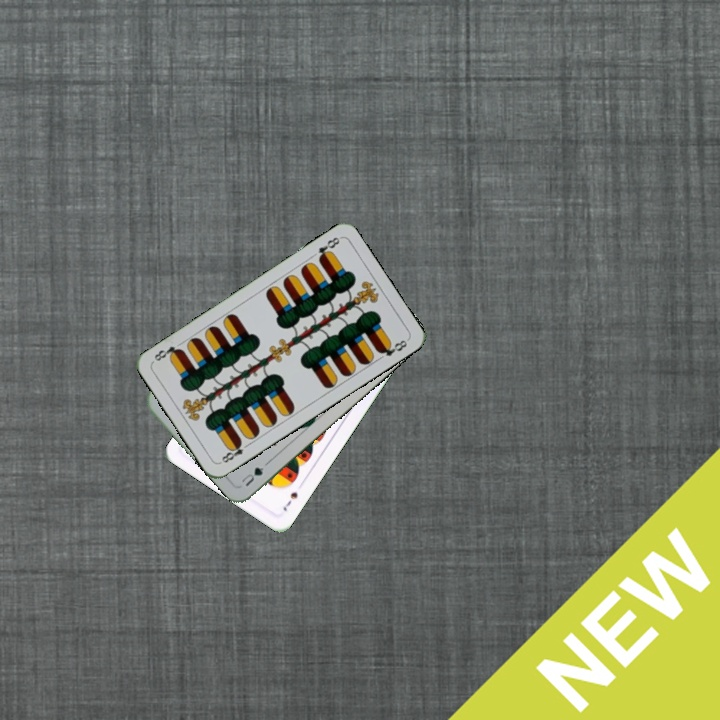E8: (218, 437, 253, 465), (314, 233, 342, 264)
GU: (237, 458, 271, 489)
S7: (279, 488, 300, 514)
